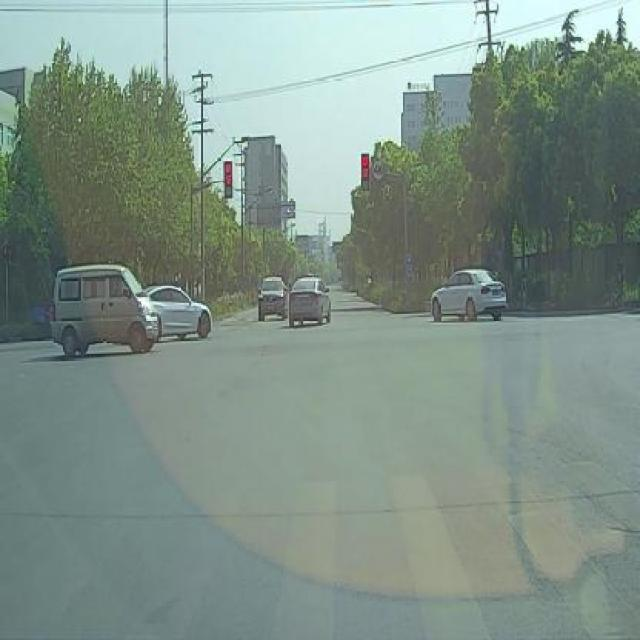forb_speed_over_40: (372, 159, 385, 182)
